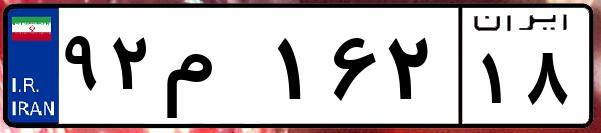1: (270, 28, 330, 110), (475, 38, 525, 113)
2: (385, 28, 445, 110), (110, 28, 158, 98)
6: (330, 28, 385, 110)
8: (525, 38, 570, 115)
9: (57, 26, 110, 100)
م: (158, 20, 270, 120)
